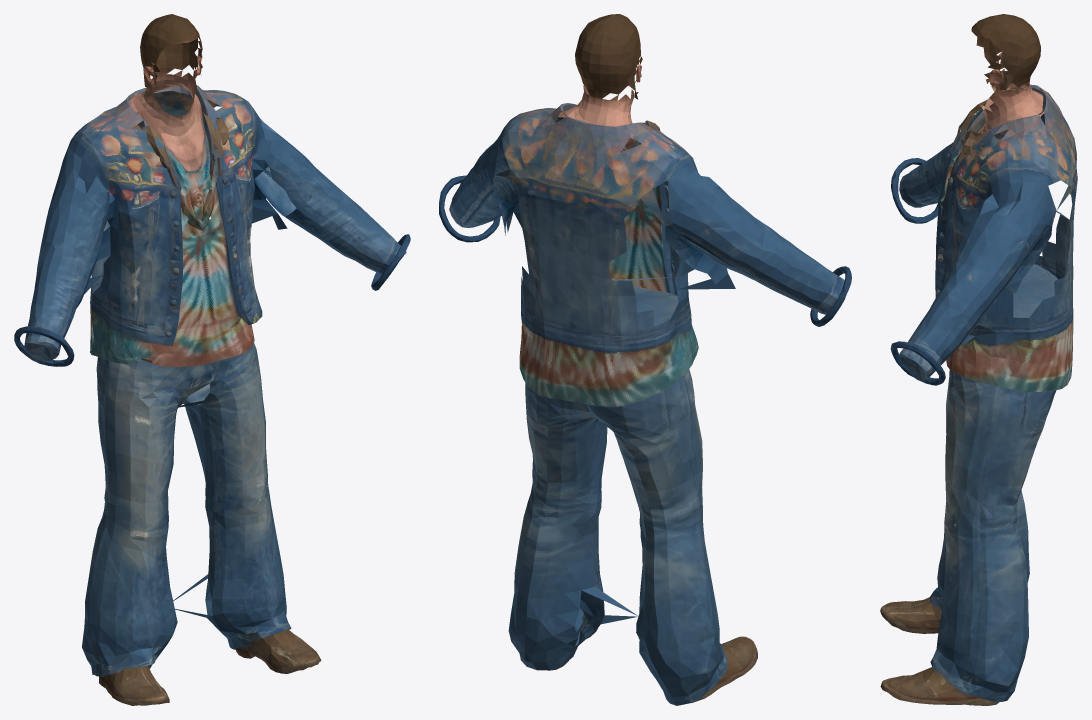
The model's file is ewm_t2hippie_outfit.glb.
3 views of the same model, side by side, from view 1: azimuth 30°, elevation 25°; view 2: azimuth 150°, elevation 25°; view 3: azimuth 270°, elevation 25° (orthographic). The views are drawn at different scales.
Parts seen in each view (by area): view 1: ewm_t2hippie_outfit; view 2: ewm_t2hippie_outfit; view 3: ewm_t2hippie_outfit.
Part boxes in pixels (box(x1,y1,x2,y2)): ewm_t2hippie_outfit: box(14, 14, 410, 705); ewm_t2hippie_outfit: box(439, 14, 851, 705); ewm_t2hippie_outfit: box(880, 14, 1077, 705).
Bounding box in the file's own units: 1.18 × 1.87 × 0.5135.
Materials: 1 (1 with a texture image).
